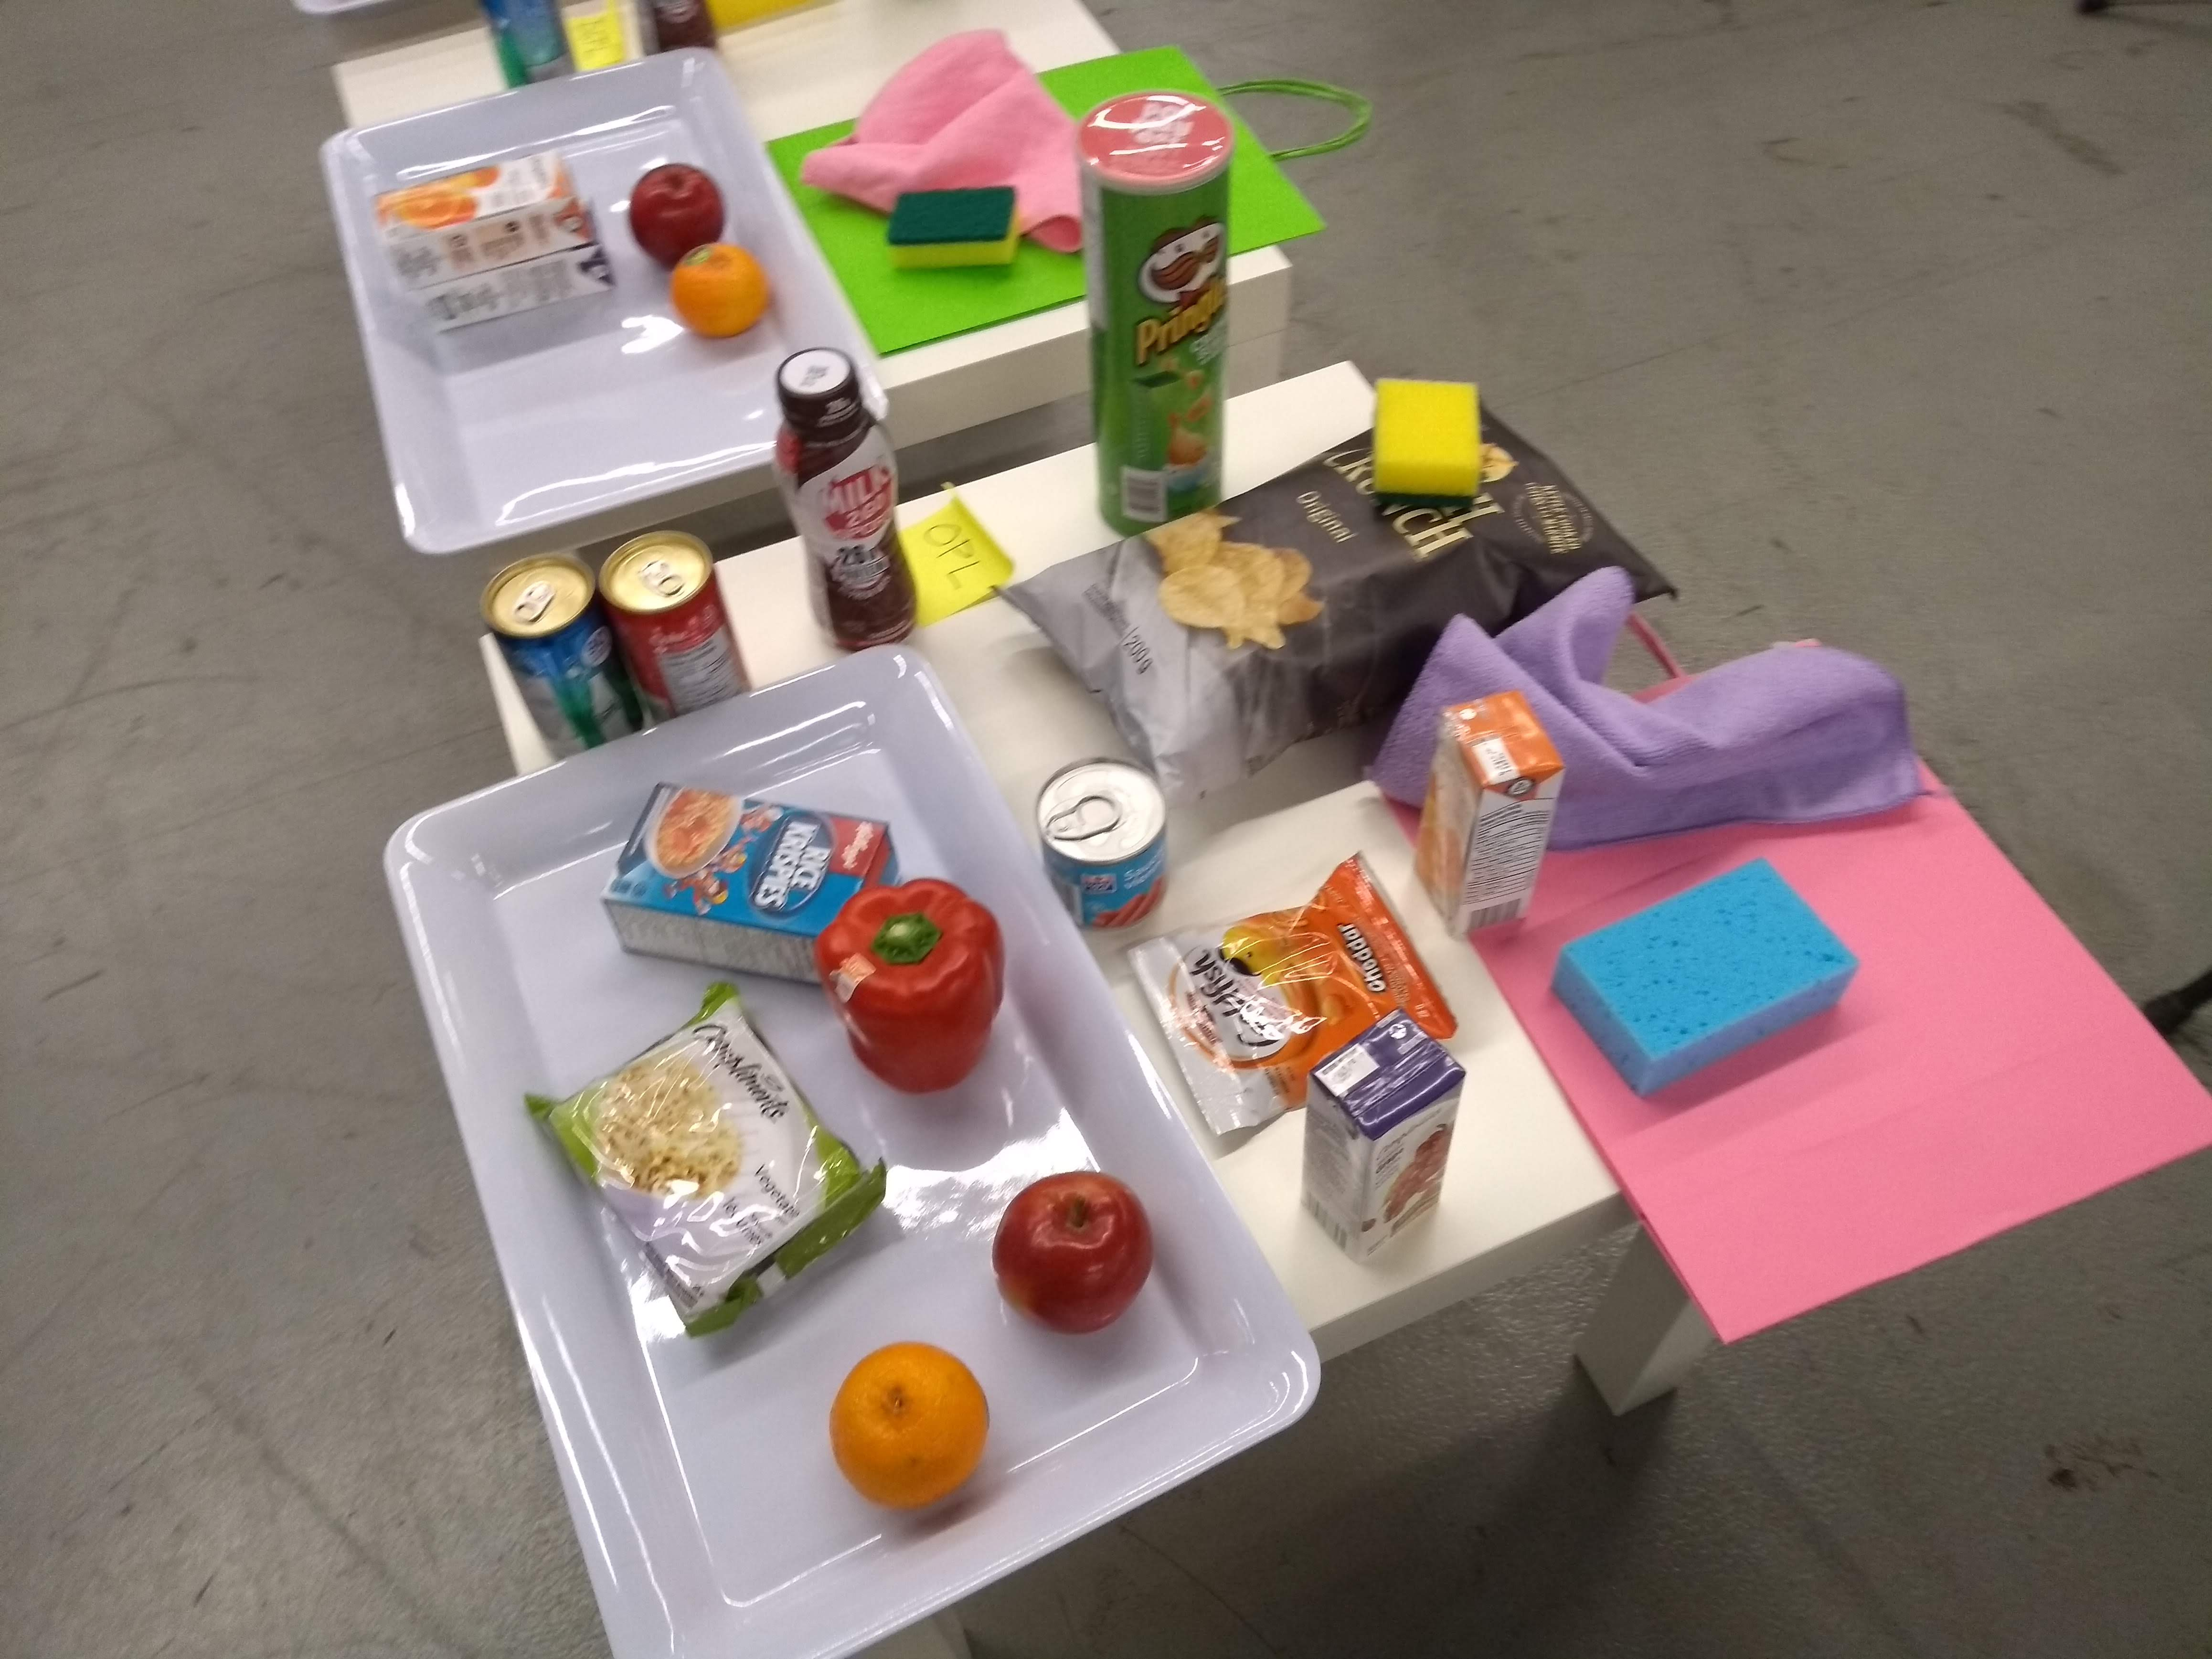apple: (977, 1164, 1174, 1342), (624, 160, 730, 258)
cereal: (608, 777, 916, 995)
chocolate_drink: (763, 340, 927, 680)
coke: (597, 525, 763, 730)
grape_juice: (1298, 1014, 1468, 1263)
noodles: (524, 976, 897, 1351)
orange: (824, 1331, 993, 1514), (664, 237, 775, 347)
orange_juice: (1402, 687, 1571, 948), (369, 143, 596, 265)
paprika: (810, 873, 1019, 1107)
pringles: (1073, 85, 1245, 544)
sausages: (1028, 748, 1186, 936)
scrubby: (1364, 364, 1489, 509), (885, 181, 1024, 274)
sponge_opl: (1538, 847, 1872, 1112)
sprite: (474, 547, 648, 767)
